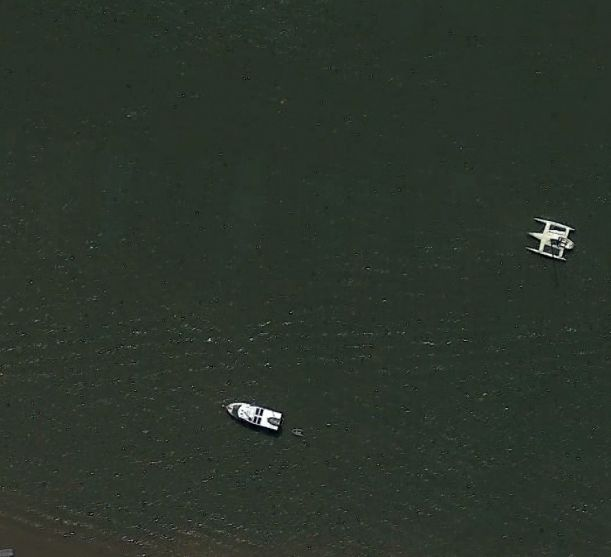boat: (527, 214, 576, 263), (222, 399, 283, 434)
